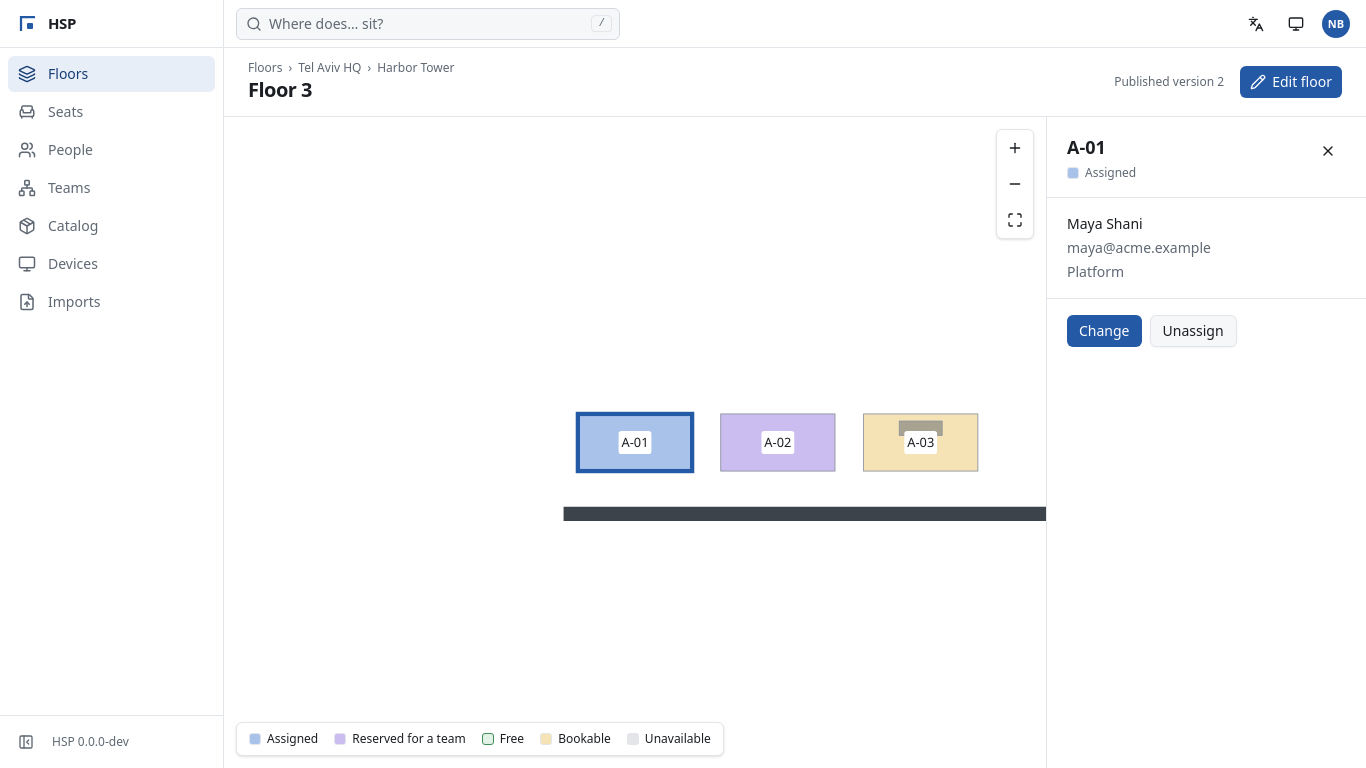
assigning seats on the plan (docs/0088) › an admin reassigns Maya's seat to Yoni; the notice says Maya lost it; Undo puts her back
The image size is (1366, 768).
Click the button "Change": (1104, 331) [1067,315,1142,347]
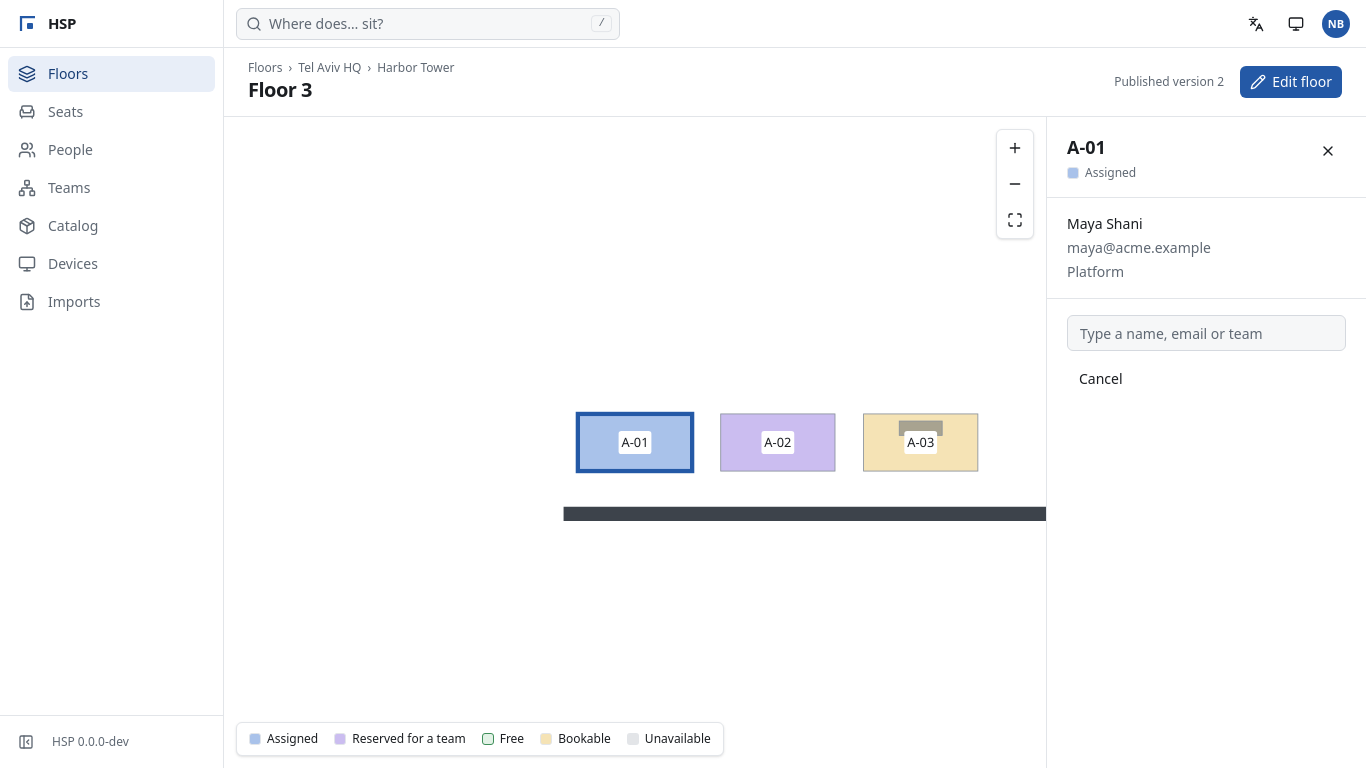
In the dropdown named "Person or team": (1206, 333) [1067,315,1346,351], type "yoni"
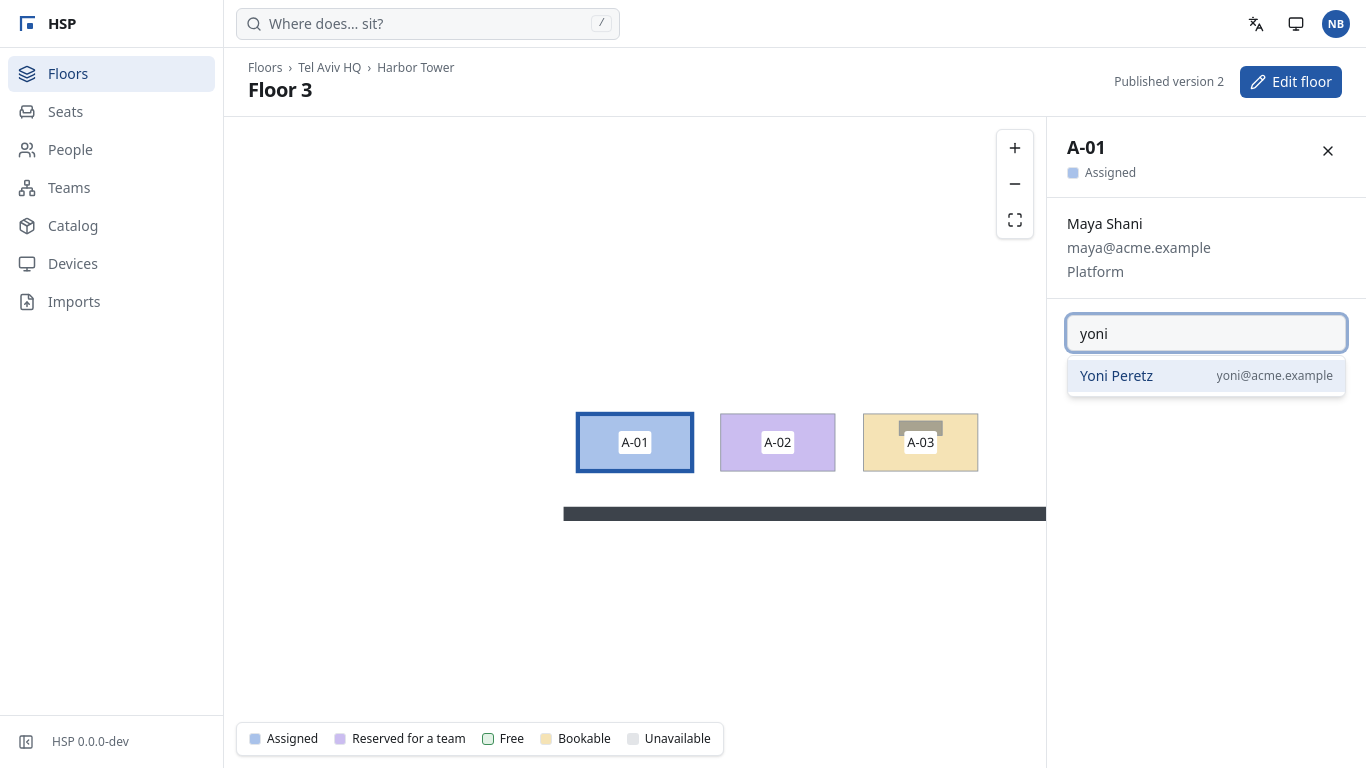
Click the option "Yoni Peretz yoni@acme.example": (1116, 376) [1068,360,1345,392]
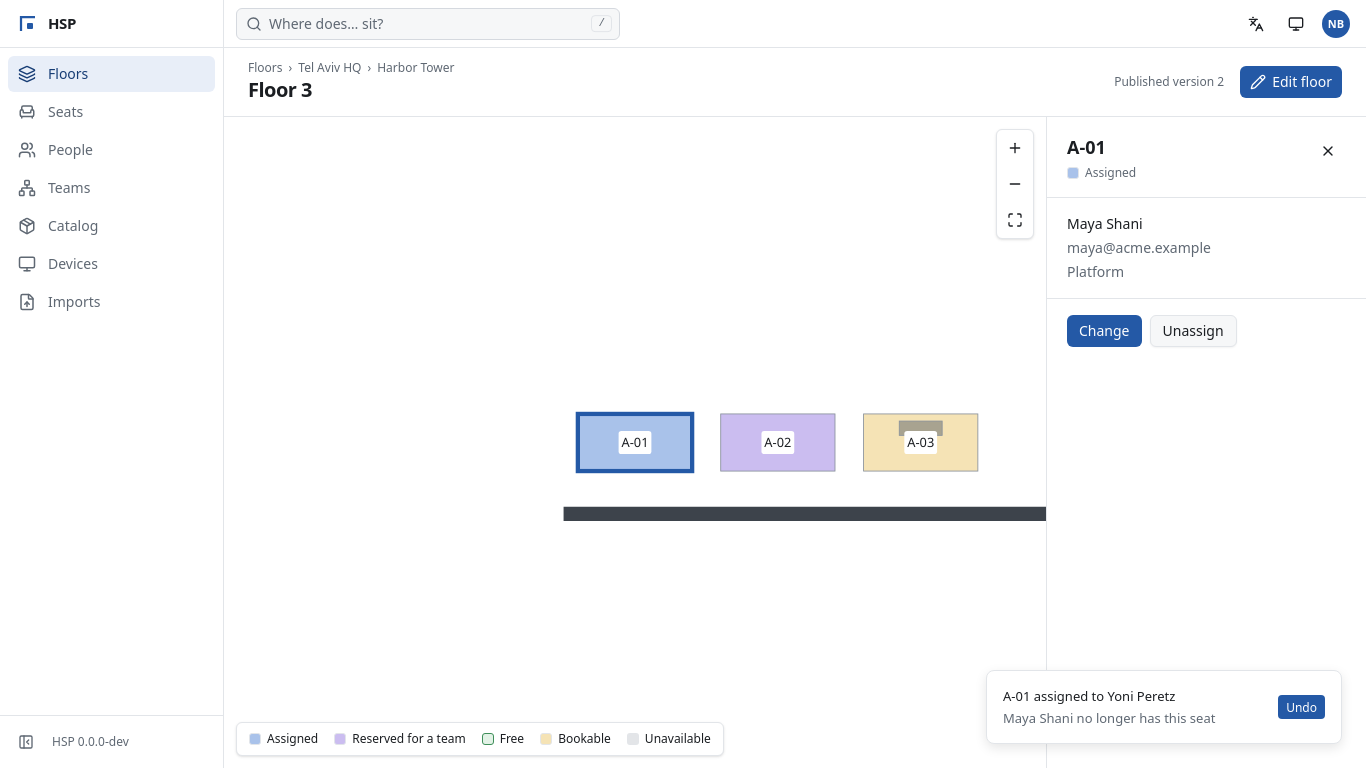
expect the text "A-01 assigned to Yoni Peretz" is shown: met, box [1003,687,1175,705]
expect the text "Maya Shani no longer has this seat" is shown: met, box [1003,709,1215,727]
Click the button "Undo": (1302, 707) [1278,695,1325,719]
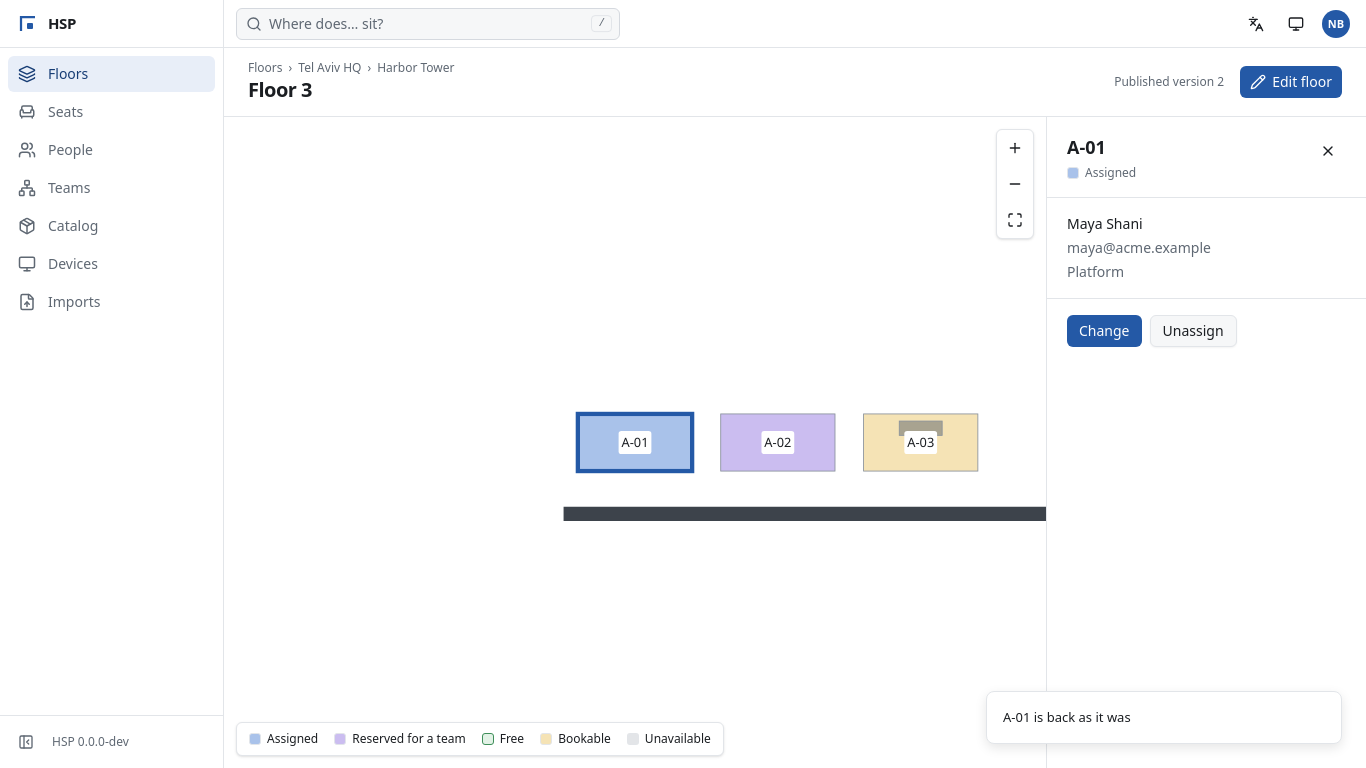
expect the text "A-01 is back as it was" is shown: met, box [1003,708,1131,727]
